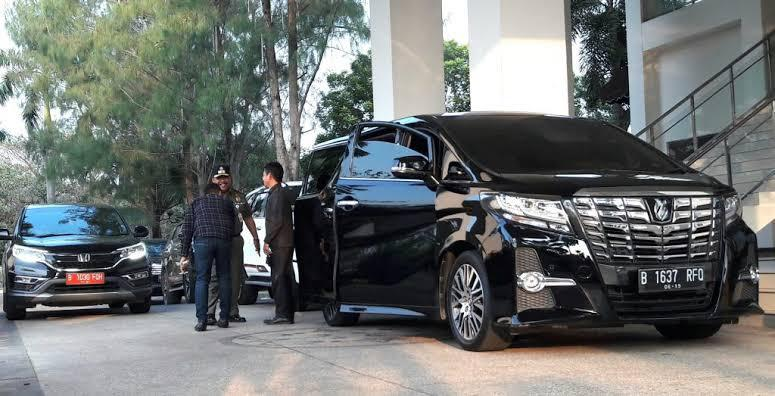plate: (634, 264, 709, 296), (63, 269, 106, 288)
